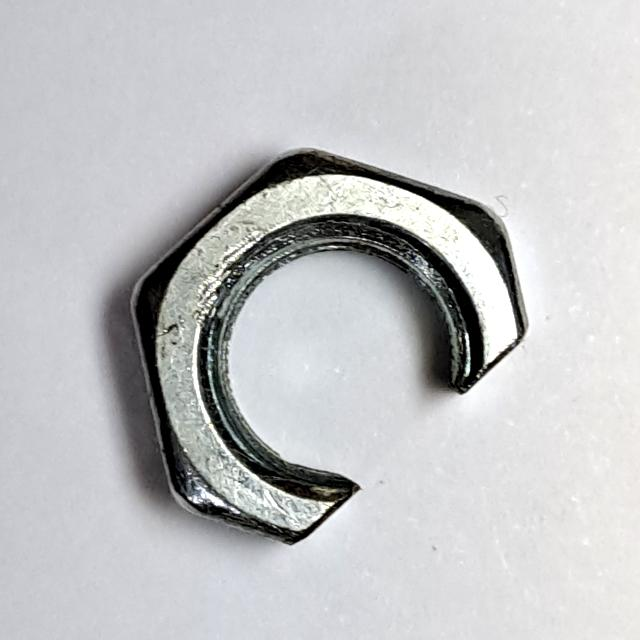Fracture: (113, 139, 545, 569)
